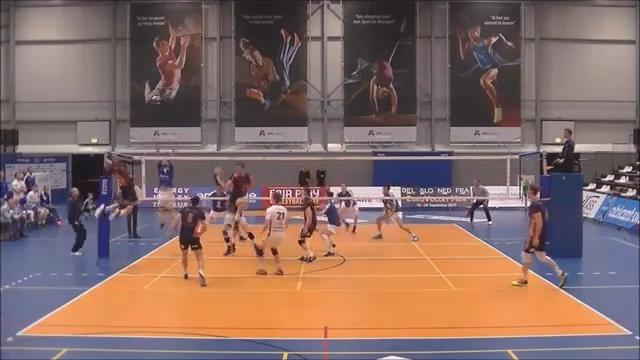Attack: (89, 145, 143, 223)
Block: (152, 143, 179, 234)
Player: (512, 185, 566, 287), (173, 196, 206, 286), (223, 163, 254, 255), (254, 192, 287, 275), (373, 185, 417, 240), (222, 200, 254, 255), (298, 187, 316, 262), (321, 191, 340, 256), (208, 186, 228, 223), (339, 199, 358, 232)
ball: (151, 95, 163, 106)
